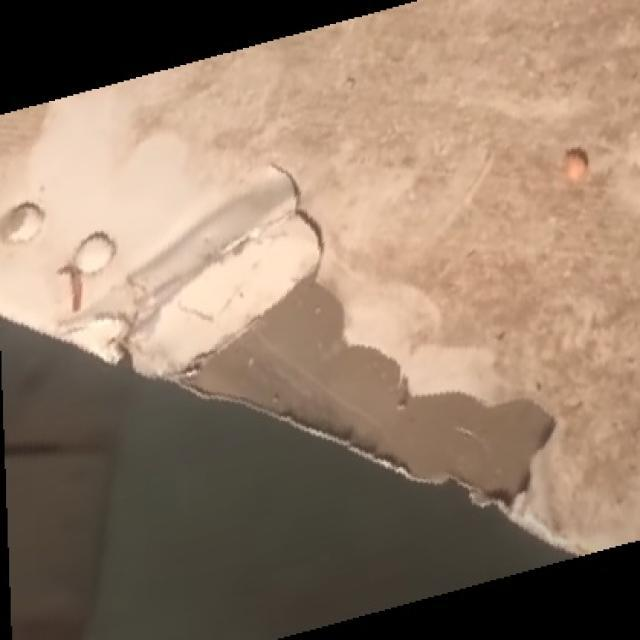crack: (261, 167, 325, 256)
